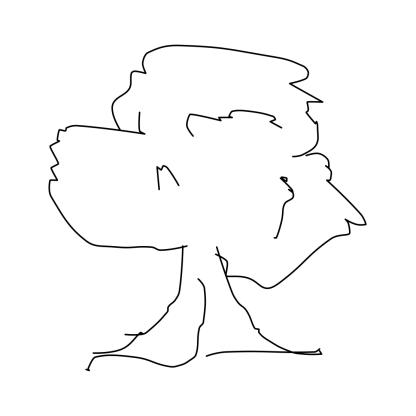crown_dizzy: (47, 43, 366, 287)
trunk_straight: (132, 289, 273, 341)
